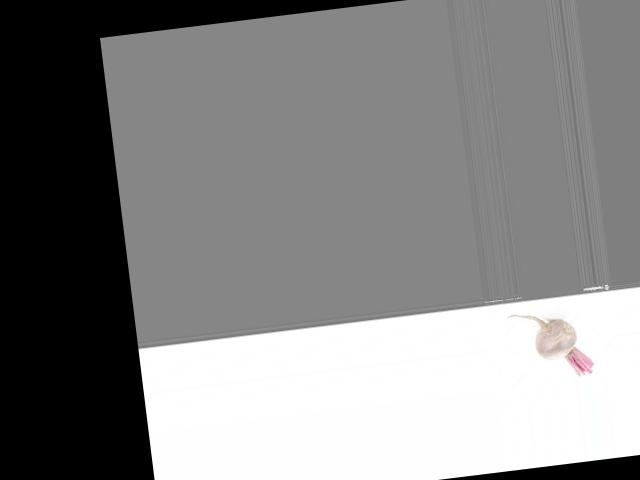beet: (506, 305, 594, 383)
